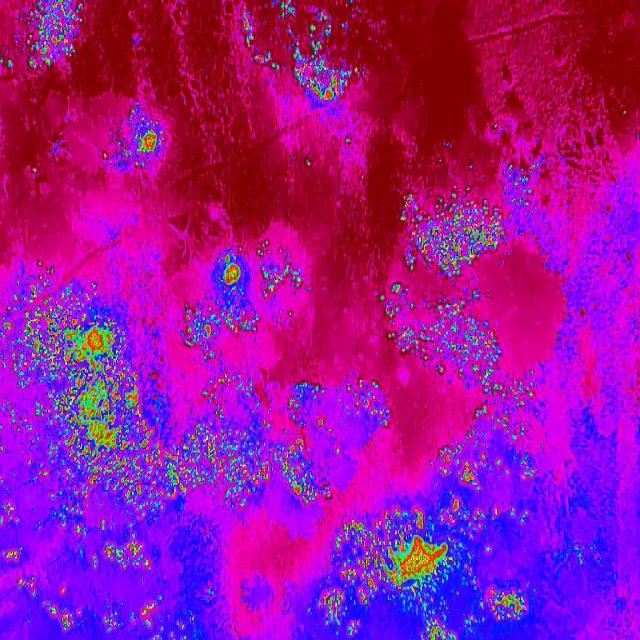fire: (0, 254, 221, 640), (312, 504, 536, 640), (174, 372, 391, 511), (391, 184, 506, 380), (175, 238, 315, 354), (430, 381, 540, 500), (240, 9, 370, 106), (0, 0, 90, 79), (94, 106, 169, 176)
